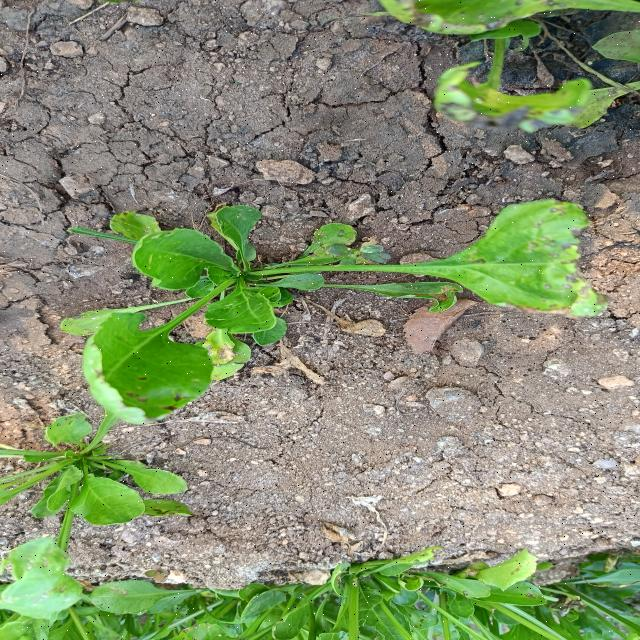half-leaf: (186, 192, 289, 271)
leaves: (247, 170, 640, 363), (70, 244, 268, 462), (1, 480, 110, 622), (120, 221, 264, 308), (195, 261, 286, 346), (93, 447, 200, 507), (62, 463, 150, 535), (253, 263, 338, 311), (31, 403, 97, 462)
